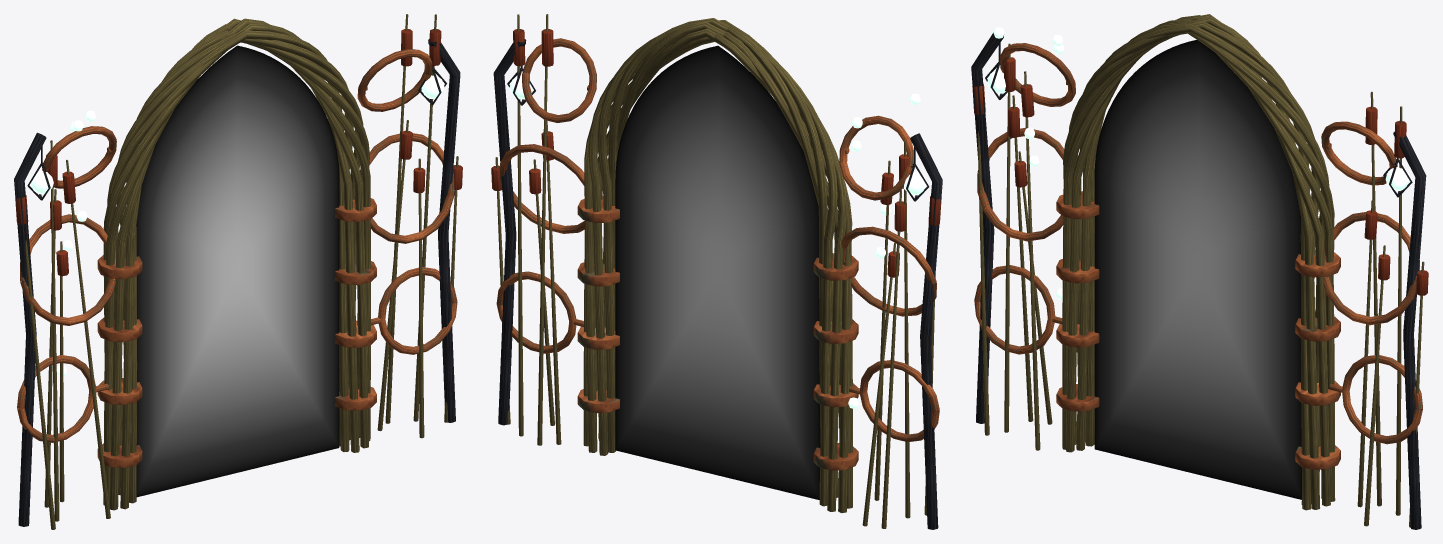
File: gloamfen.glb
The picture shows the model from 3 angles, left to right: view 1: azimuth 30°, elevation 25°; view 2: azimuth 150°, elevation 25°; view 3: azimuth 330°, elevation 25°; orthographic projection.
Visible parts, largest first — view 1: Veil, Frame; view 2: Veil, Frame; view 3: Veil, Frame.
Part boxes in pixels (x1,y1,x2,y2): Veil: (136,45,339,497); Frame: (14,14,462,529); Veil: (615,45,820,499); Frame: (491,14,942,529); Veil: (1094,40,1301,499); Frame: (971,14,1428,529).
Bounding box in the file's own units: 2.98 × 2.88 × 0.5089.
Materials: 6 (5 with a texture image).
